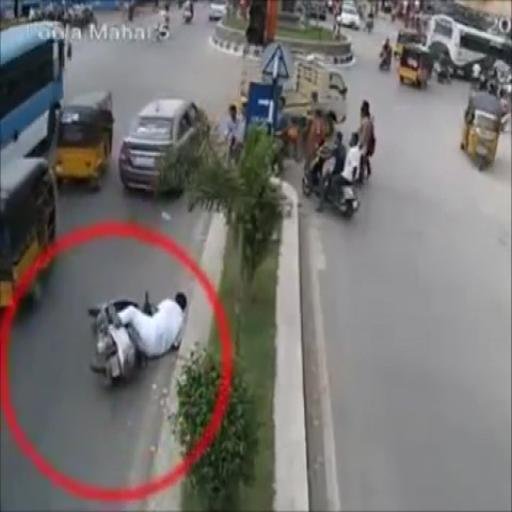小汽车: (123, 100, 209, 187), (58, 91, 114, 193), (464, 88, 501, 170)
自行车: (84, 289, 188, 383), (302, 135, 361, 217)
